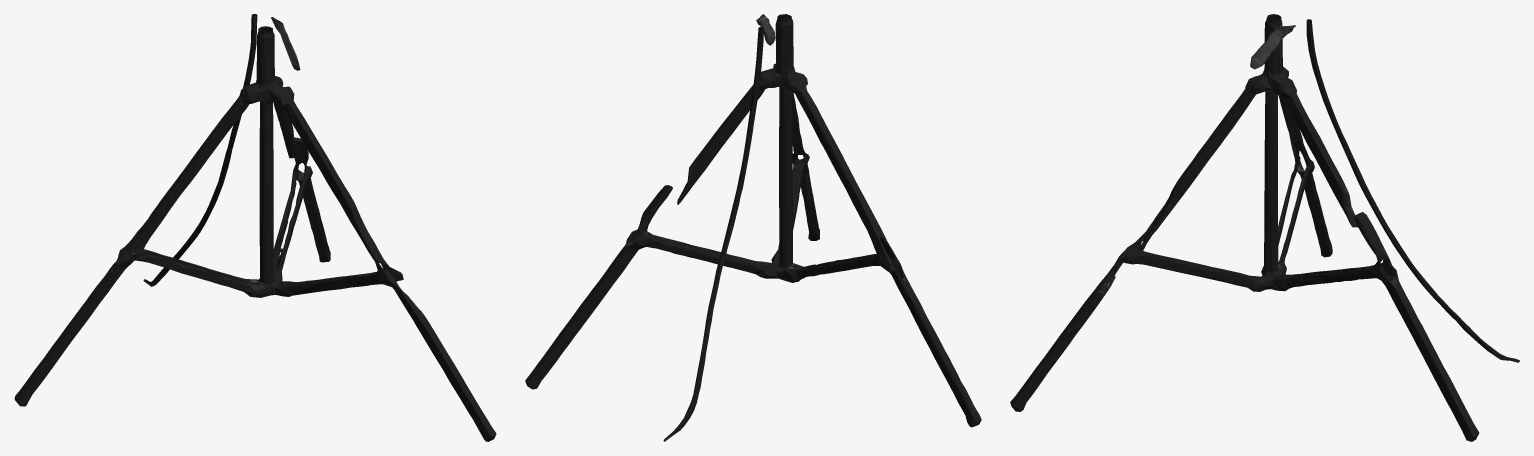
Rendered from LightLegs.obj.
3 renders of one model, left to right at view 1: azimuth 30°, elevation 25°; view 2: azimuth 150°, elevation 25°; view 3: azimuth 270°, elevation 25°, orthographic. The views are drawn at different scales.
Size of the model in its own units: 71.01 by 60 by 80.01.
Materials: 1 (1 with a texture image).
